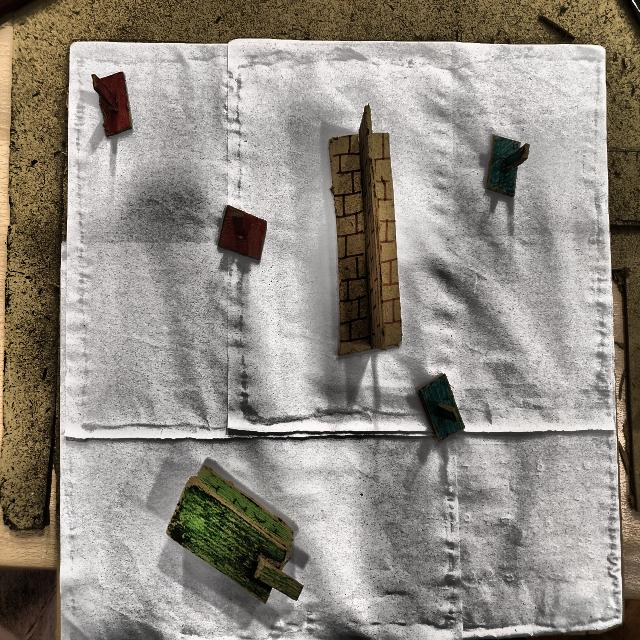Tank: (166, 464, 306, 604)
Wall: (326, 109, 405, 361)
enemy: (215, 205, 272, 273), (485, 131, 533, 203), (92, 71, 138, 143)
friend: (417, 376, 467, 449), (484, 131, 532, 203)
